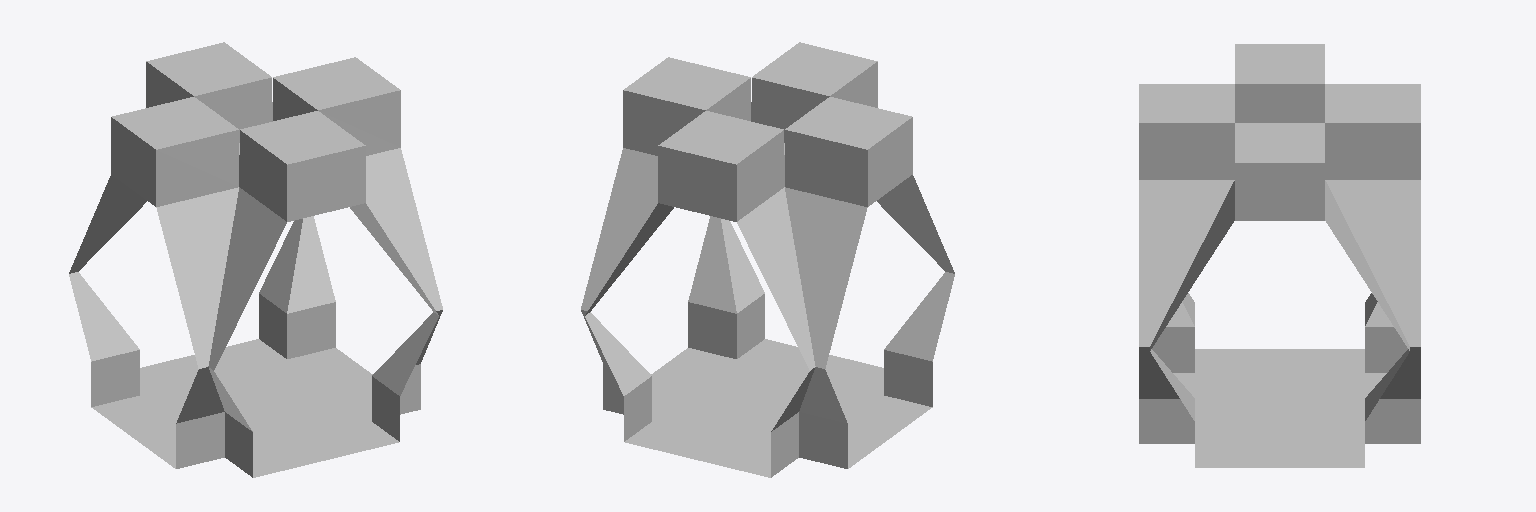
The model's file is corridor-x-junction.obj.
The picture shows the model from 3 angles: view 1: azimuth 30°, elevation 25°; view 2: azimuth 150°, elevation 25°; view 3: azimuth 270°, elevation 25°; orthographic projection.
Parts seen in each view (by area): view 1: corridor_x_junction; view 2: corridor_x_junction; view 3: corridor_x_junction.
Part boxes in pixels (x1,y1,x2,y2): corridor_x_junction: (69,42,442,477); corridor_x_junction: (581,42,954,477); corridor_x_junction: (1139,44,1420,467).
Size of the model in its own units: 5 by 5.96 by 5.